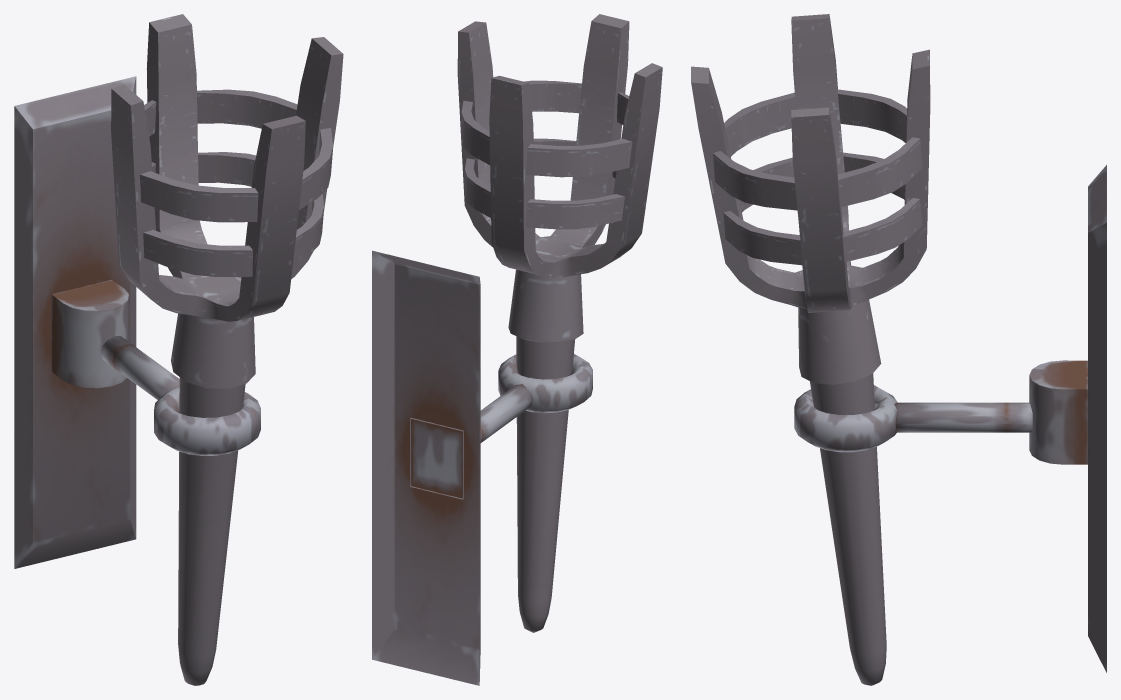
File: torch_metal.glb
The picture shows the model from 3 angles, left to right: view 1: azimuth 30°, elevation 25°; view 2: azimuth 150°, elevation 25°; view 3: azimuth 270°, elevation 25°; orthographic projection. The views are drawn at different scales.
Visible parts, largest first — view 1: Torch_Metal; view 2: Torch_Metal; view 3: Torch_Metal.
Part boxes in pixels (<box>): Torch_Metal: <box>14,14,343,685</box>; Torch_Metal: <box>372,14,662,685</box>; Torch_Metal: <box>691,14,1106,685</box>.
Size of the model in its own units: 0.2232 by 0.6482 by 0.3884.
Materials: 1 (1 with a texture image).
